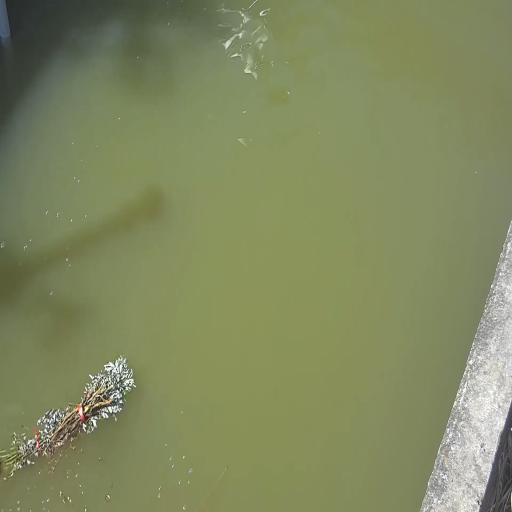twig: (0, 352, 142, 487)
